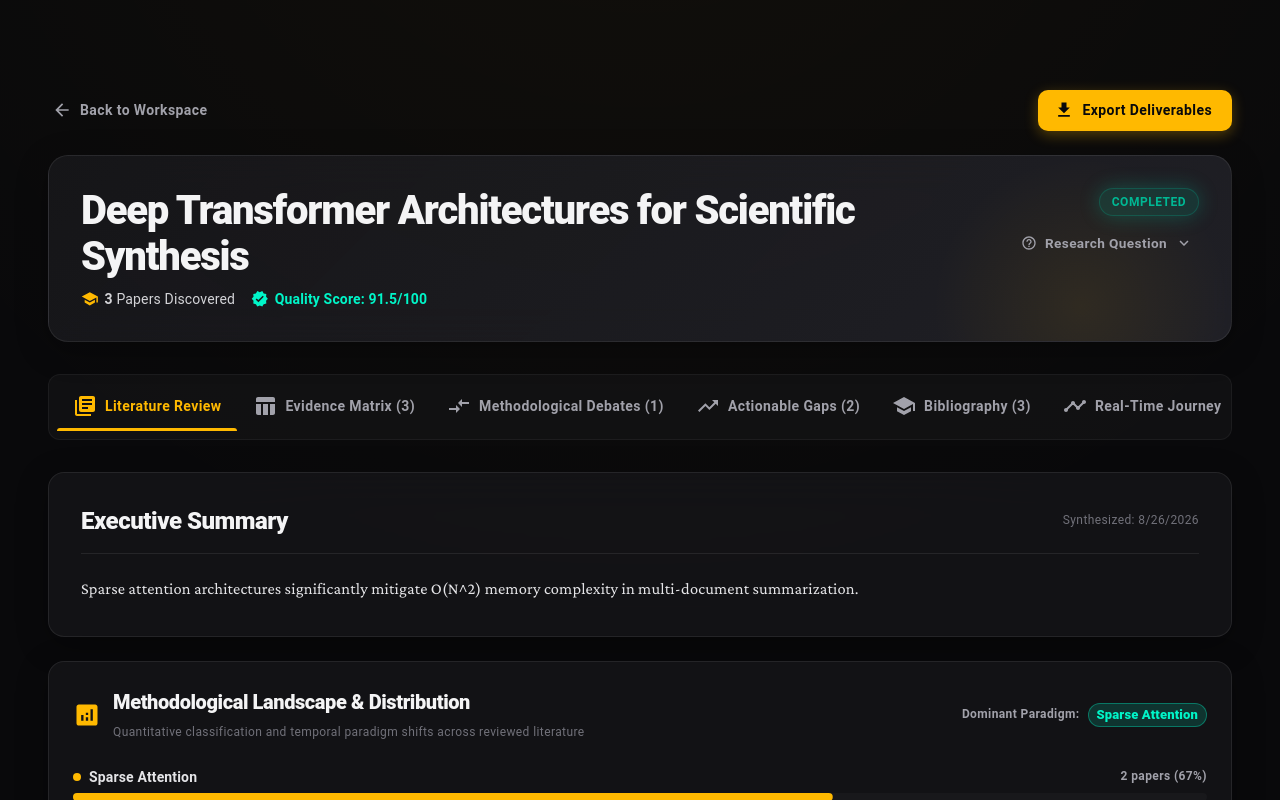
Test: ProjectDetailsPage Empirical Challenger Test Suite › 4. Full Report State Verification across all 6 Tabs › Header: renders title, quality score badge, paper count, and research question popover
The image size is (1280, 800).
expect the heading "Deep Transformer Architectures for Scientific Synthesis" is shown: met, box [81,186,855,280]
expect the text "Quality Score: 91.5/100" is shown: met, box [275,289,427,309]
Note: Click research question dropdown
Click the button "Research Question": (1107, 243) [1015,228,1199,259]
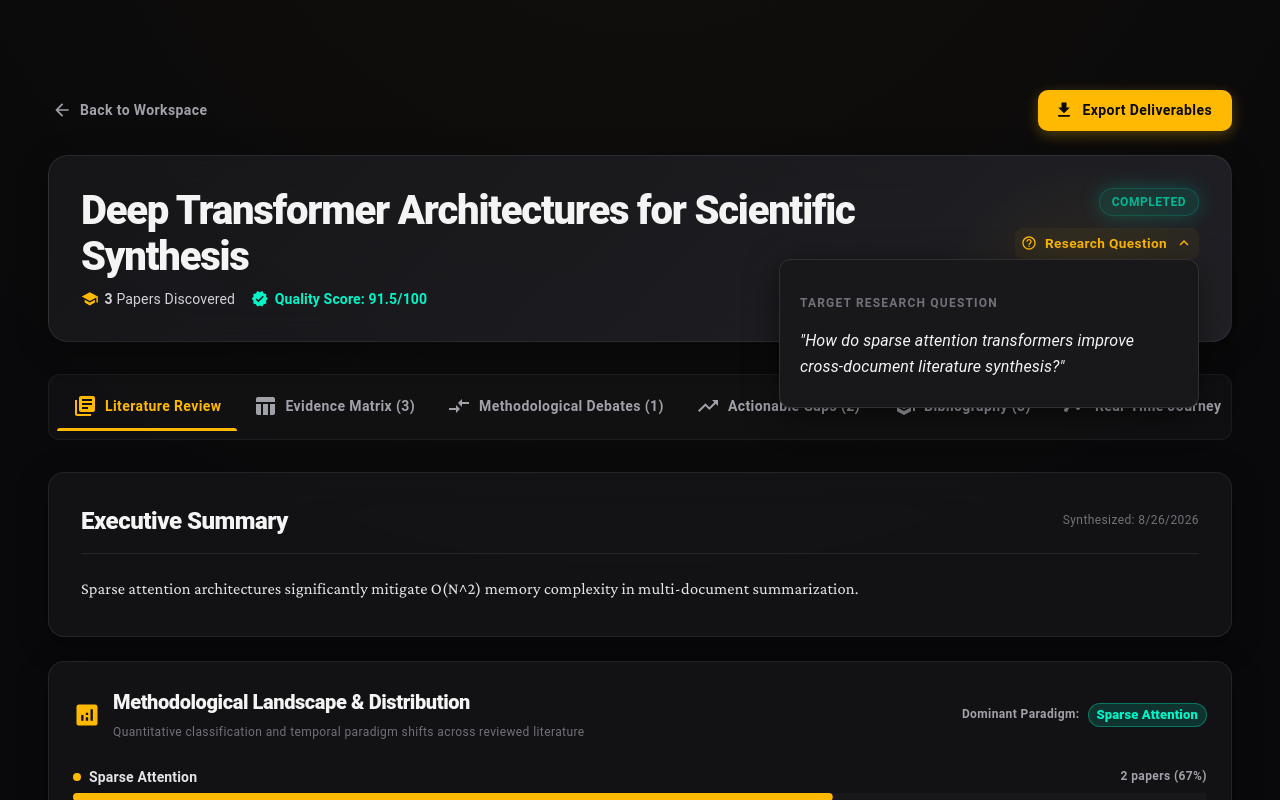
expect the text "Target Research Question" is shown: met, box [800,296,998,310]
expect the text "How do sparse attention transformers improve cross-document literature synthesis?" is shown: met, box [800,331,1134,376]
